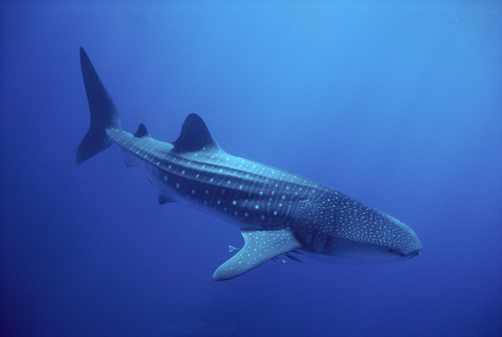Rhincodon_typusw: (65, 43, 442, 293)
